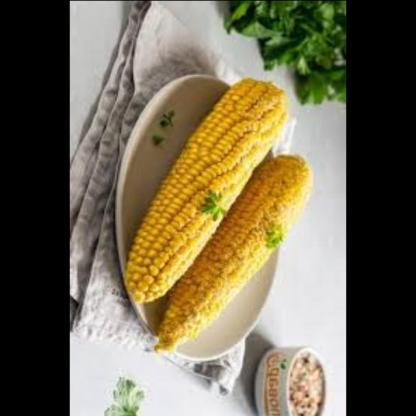corn: (127, 77, 290, 301), (153, 151, 315, 353)
